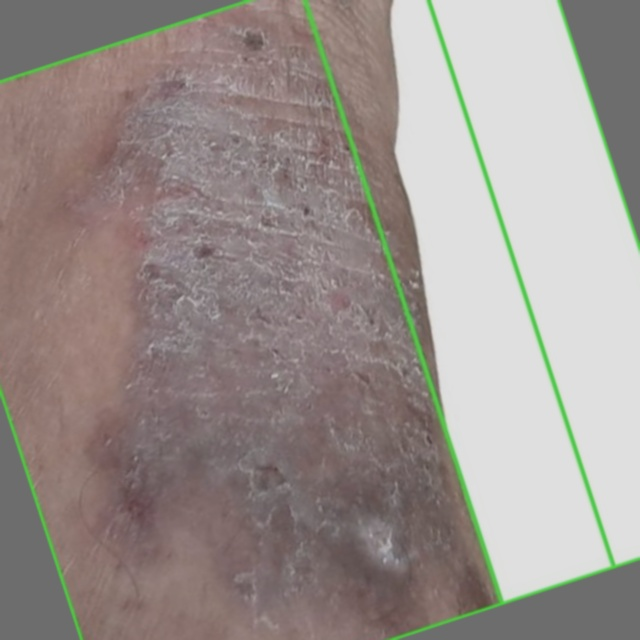Eczema: (0, 0, 614, 639), (305, 0, 639, 604)
